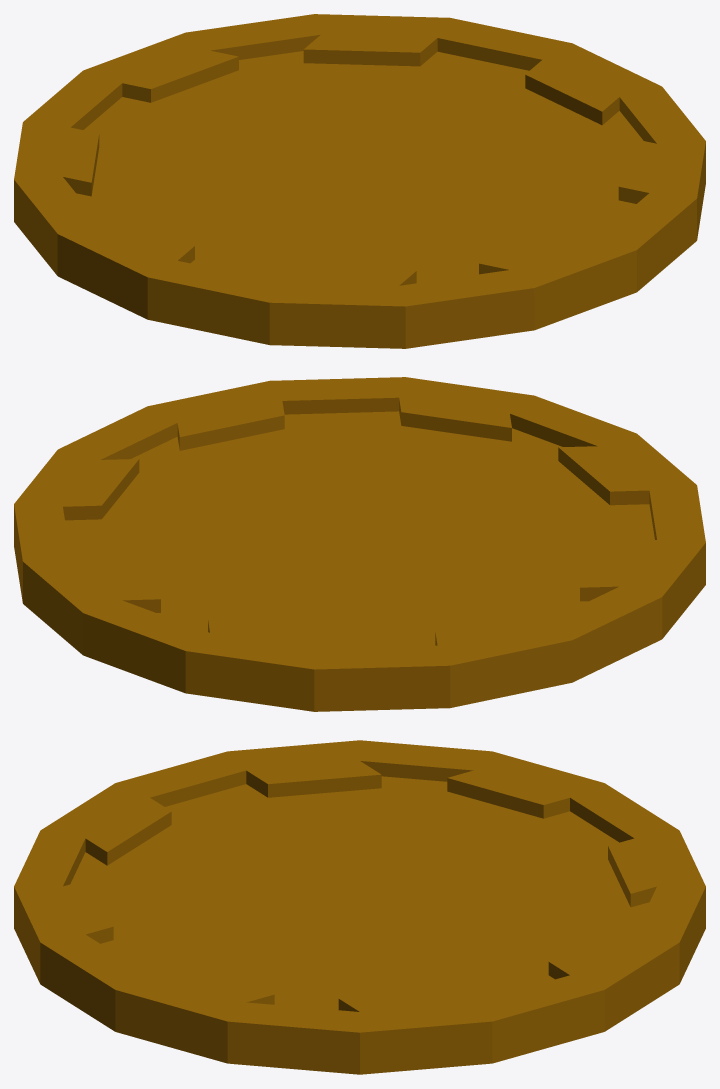
File: Coin.fbx
3 views of the same model, one above another, from view 1: azimuth 30°, elevation 25°; view 2: azimuth 150°, elevation 25°; view 3: azimuth 270°, elevation 25° (orthographic).
Visible parts, largest first — view 1: Coin; view 2: Coin; view 3: Coin.
Boxes of the visible parts, x1,y1,x2,y2 form: Coin: (14,14,705,348); Coin: (14,377,705,711); Coin: (14,740,705,1074).
Bounding box in the file's own units: 2 × 0.1341 × 2.
